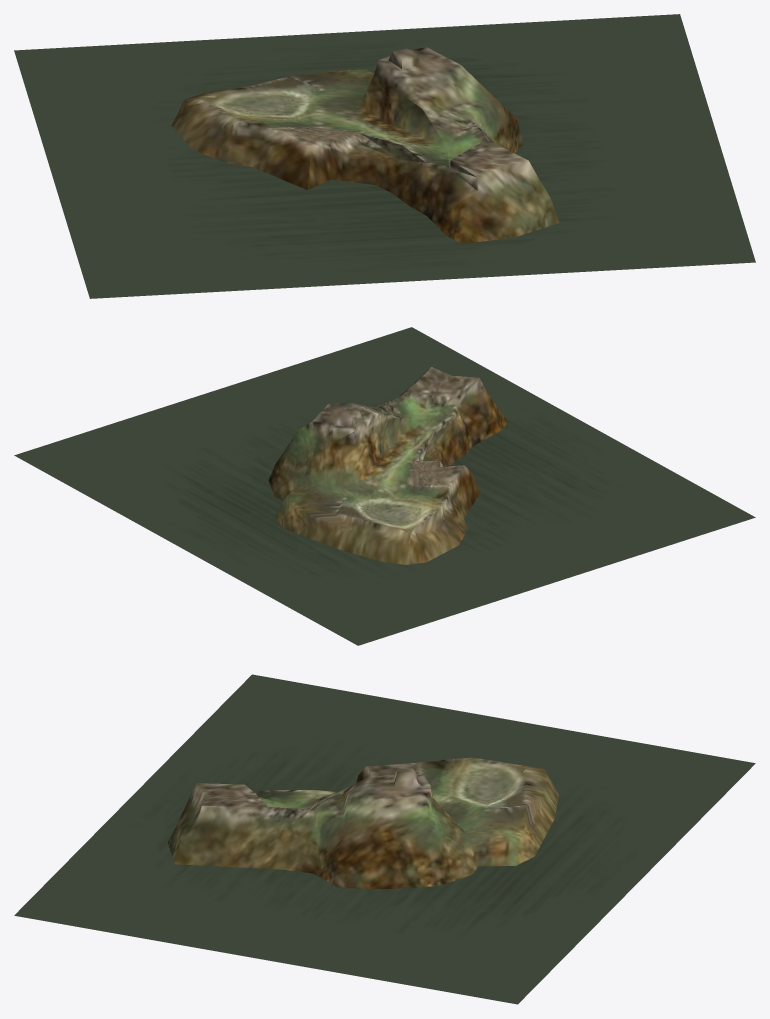
Rendered from pir_m_are_isl_kingshead_worldmap.fbx.
The picture shows the model from 3 angles, top to bottom: view 1: azimuth 30°, elevation 25°; view 2: azimuth 150°, elevation 25°; view 3: azimuth 270°, elevation 25°; orthographic projection. The views are drawn at different scales.
Parts seen in each view (by area): view 1: sketchmark, top_mesh; view 2: sketchmark, top_mesh; view 3: sketchmark, top_mesh.
Boxes of the visible parts, x1,y1,x2,y2 form: sketchmark: (14, 14, 755, 298); top_mesh: (171, 47, 559, 244); sketchmark: (14, 327, 755, 645); top_mesh: (268, 367, 507, 564); sketchmark: (14, 674, 755, 1004); top_mesh: (168, 757, 558, 889).
Bounding box in the file's own units: 42.06 × 4.83 × 39.96.
Materials: 2 (2 with a texture image).
